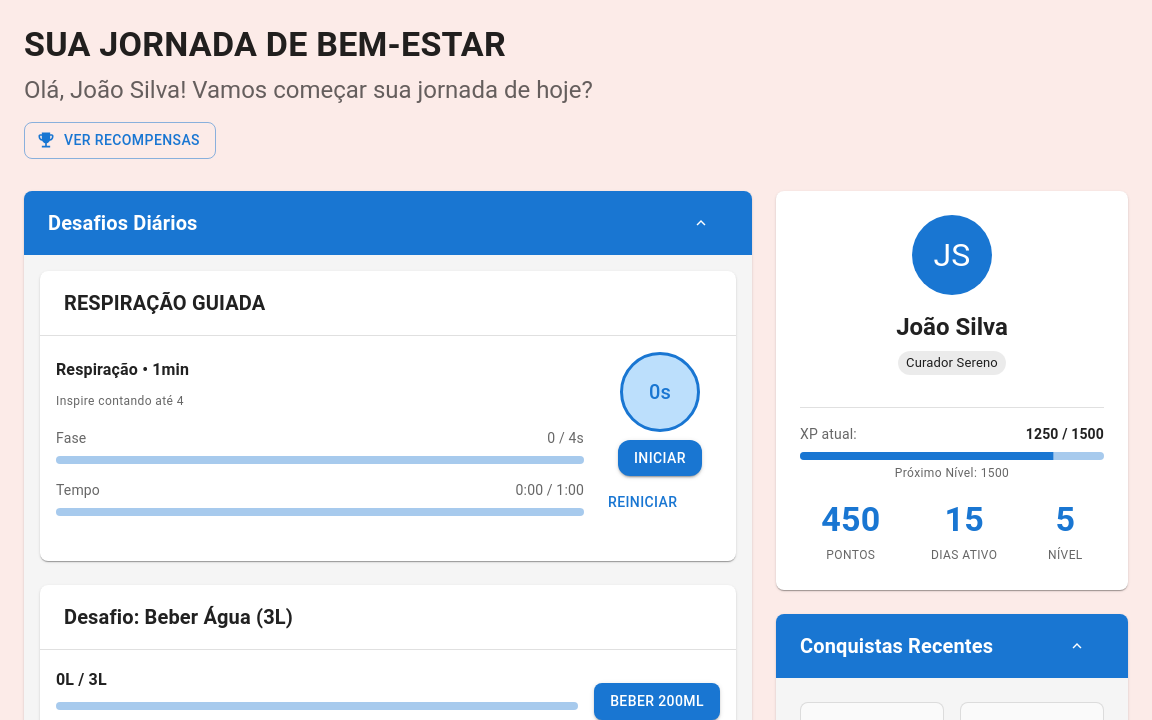
Home (Jornada) Interactive Components › Breathing Exercise › should start breathing exercise when clicking iniciar
What coordinates should you click on to do the following:
click the button "Iniciar"
I would click on:
 (660, 458)
Its box is [618, 440, 702, 476].
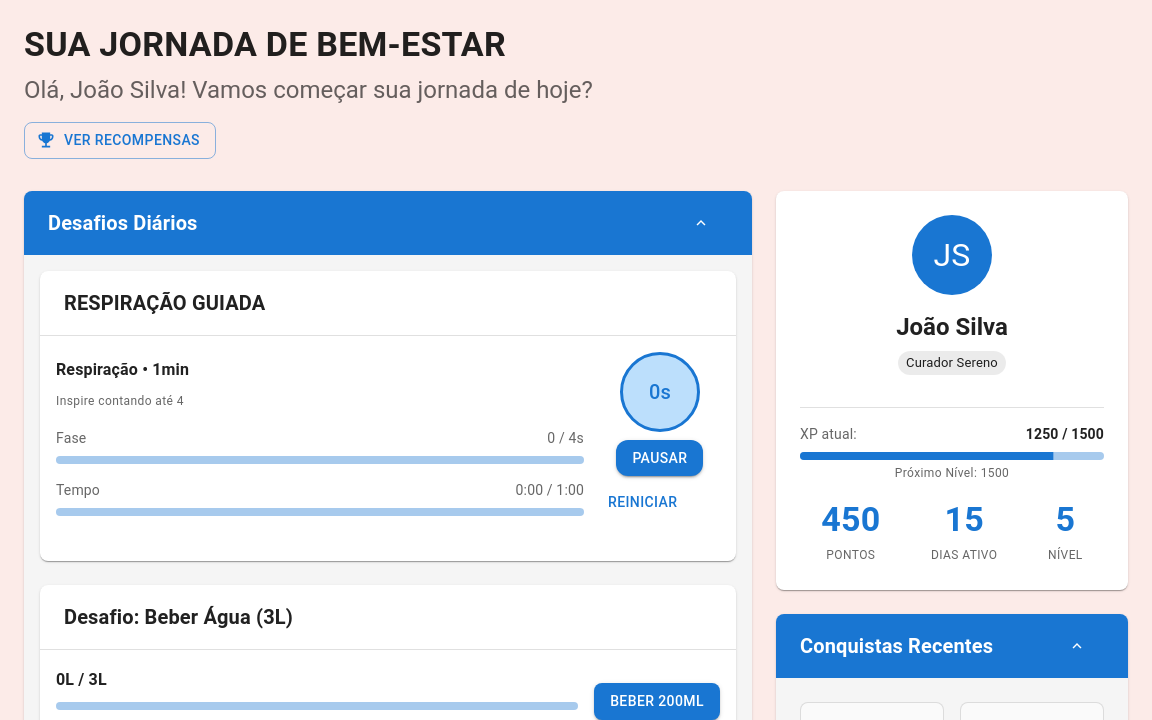
Expected: the text "Inspire contando até 4" is shown, [56, 394, 184, 408]
Now the button "Pausar" is shown, box [616, 440, 704, 476]
